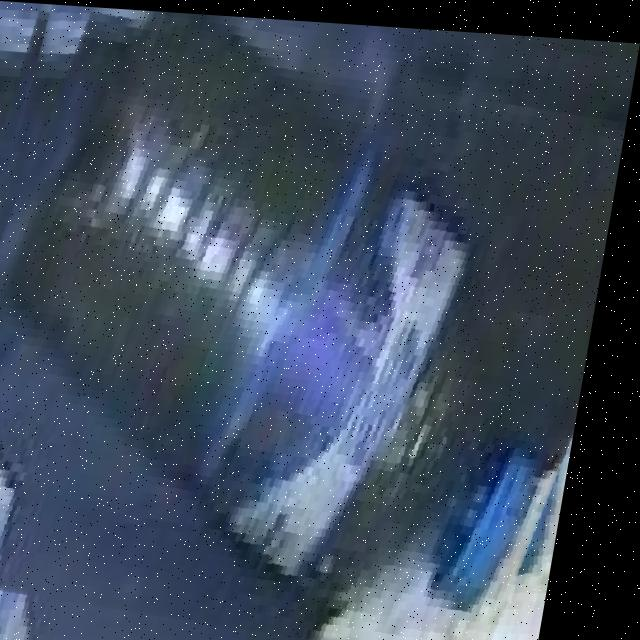plasticbottle: (0, 0, 640, 640)
plasticbottlecap: (466, 401, 581, 605)
